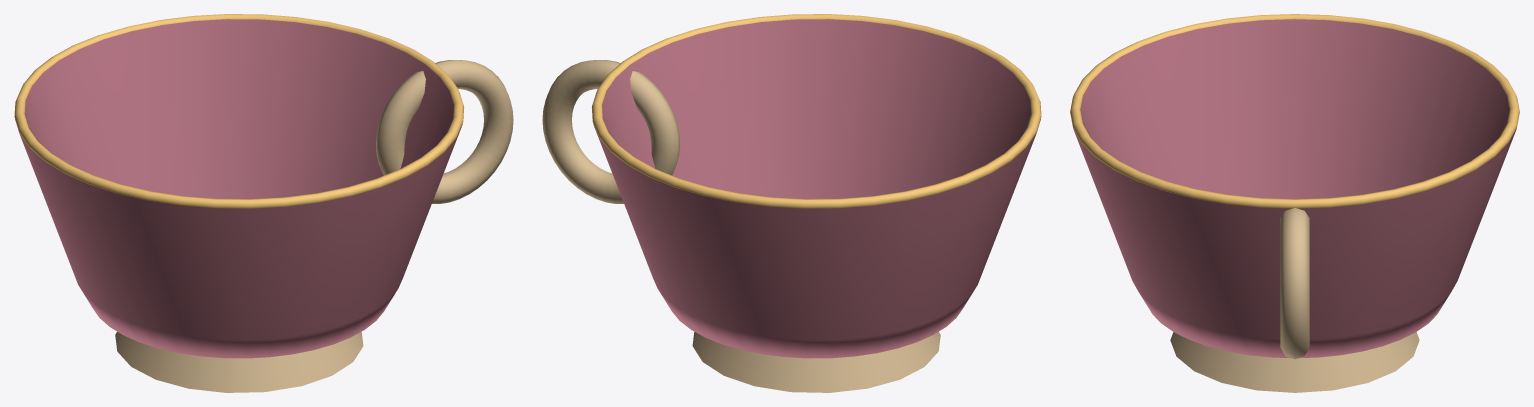
The model's file is mia-teacup.glb.
3 renders of one model, left to right at view 1: azimuth 30°, elevation 25°; view 2: azimuth 150°, elevation 25°; view 3: azimuth 270°, elevation 25°, orthographic.
Parts seen in each view (by area): view 1: Body_cake-rose, Body_ivory, Body_trim; view 2: Body_cake-rose, Body_ivory, Body_trim; view 3: Body_cake-rose, Body_ivory, Body_trim.
Boxes of the visible parts, x1,y1,x2,y2 form: Body_cake-rose: (15, 19, 462, 358); Body_ivory: (115, 60, 513, 392); Body_trim: (14, 14, 464, 208); Body_cake-rose: (593, 19, 1040, 358); Body_ivory: (542, 60, 940, 392); Body_trim: (591, 14, 1041, 208); Body_cake-rose: (1073, 19, 1516, 358); Body_ivory: (1170, 208, 1419, 392); Body_trim: (1070, 14, 1519, 208).
Size of the model in its own units: 2.16 by 1.03 by 1.8.
